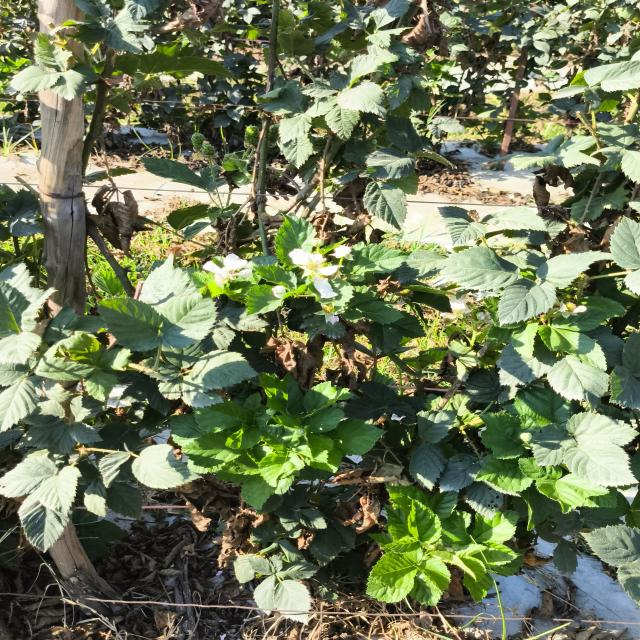flor: (203, 253, 251, 287), (289, 248, 338, 276), (442, 297, 471, 319), (559, 302, 587, 318), (330, 245, 351, 258), (271, 285, 286, 298)
